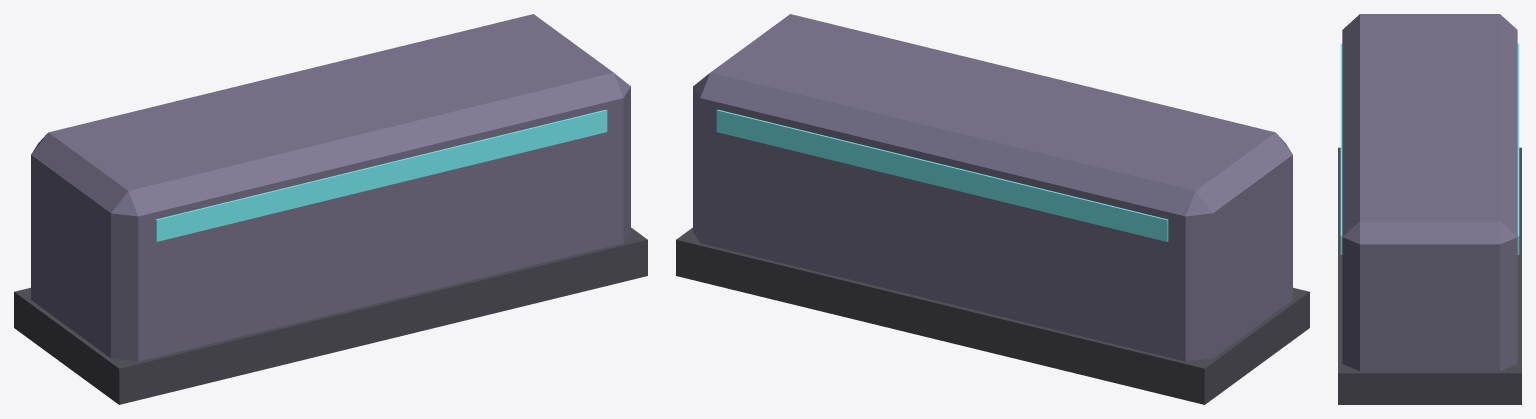
Rendered from sh_cover.glb.
The picture shows the model from 3 angles, left to right: view 1: azimuth 30°, elevation 25°; view 2: azimuth 150°, elevation 25°; view 3: azimuth 270°, elevation 25°; orthographic projection. The views are drawn at different scales.
Parts seen in each view (by area): view 1: sh_cover; view 2: sh_cover; view 3: sh_cover.
Boxes of the visible parts, x1,y1,x2,y2 form: sh_cover: (14, 14, 647, 404); sh_cover: (676, 14, 1309, 404); sh_cover: (1338, 14, 1521, 404).
Bounding box in the file's own units: 3.05 × 1.1 × 1.05.
